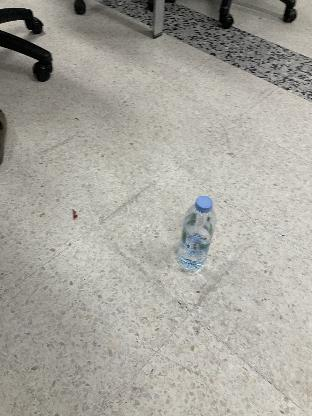Plastic Bottle: (176, 196, 216, 274)
